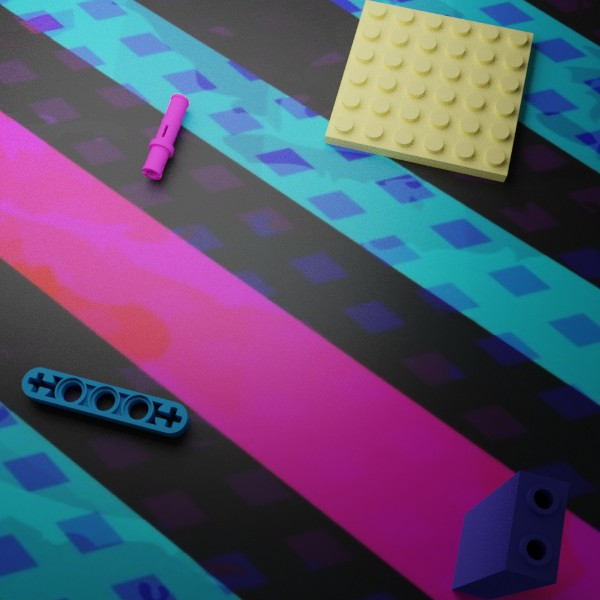lego: (324, 0, 533, 182), (451, 470, 569, 600), (21, 367, 189, 437), (141, 93, 189, 179)
